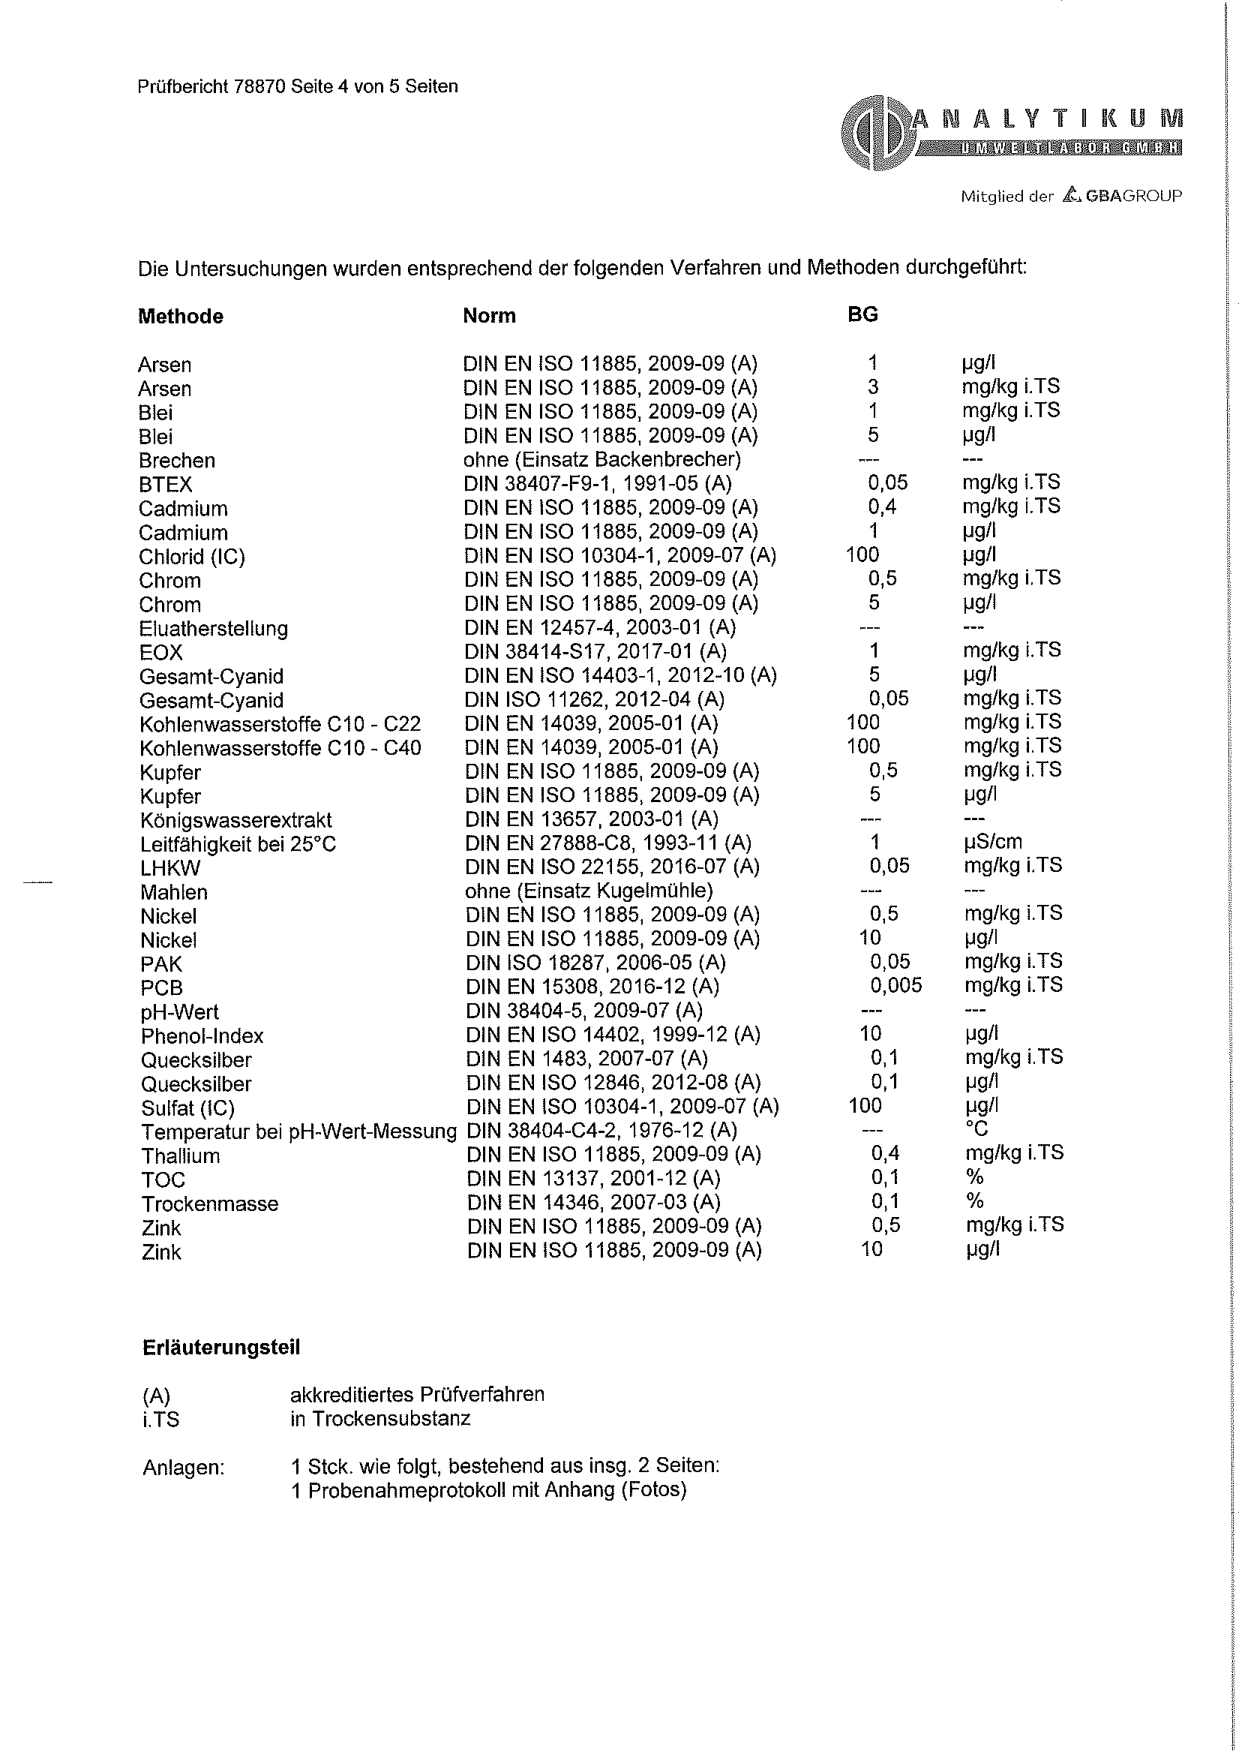table: (128, 346, 1087, 1265)
